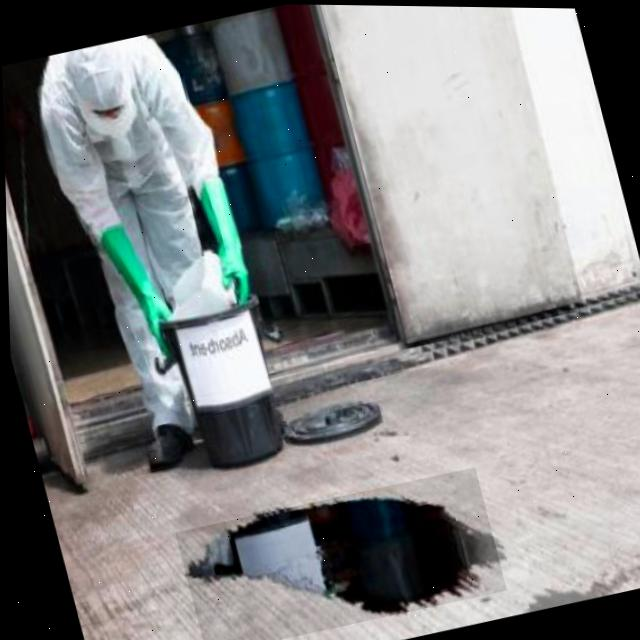spillage: (183, 496, 492, 613), (520, 581, 603, 609)
